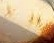Corrosion: (31, 21, 54, 43)
